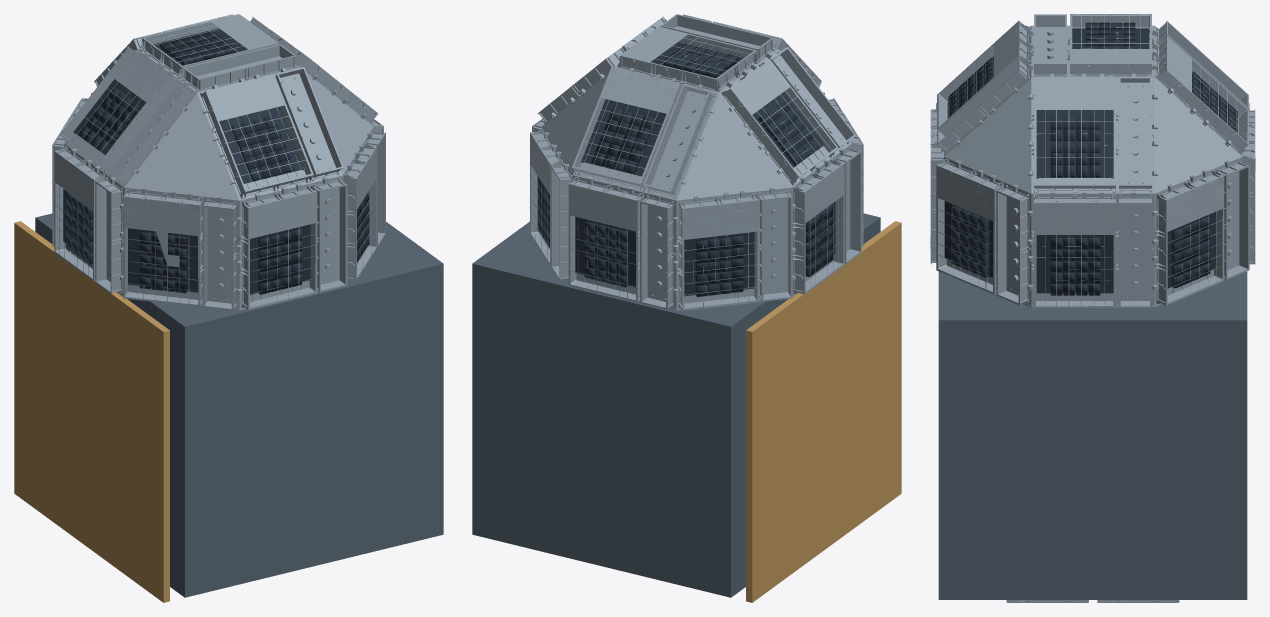
The model's file is daksha-assembly.glb.
3 views of the same model, side by side, from view 1: azimuth 30°, elevation 25°; view 2: azimuth 150°, elevation 25°; view 3: azimuth 270°, elevation 25° (orthographic). The views are drawn at different scales.
Visible parts, largest first — view 1: Spacecraft bus, Detector housings, Sensors, Crown, Detector electronics, Upper frame; view 2: Spacecraft bus, Detector housings, Sensors, Crown, Detector electronics, Upper frame; view 3: Spacecraft bus, Detector housings, Sensors, Crown, Detector electronics, Upper frame.
Part boxes in pixels (bbox=[...]): Spacecraft bus: bbox=[14, 14, 443, 602]; Detector housings: bbox=[55, 14, 383, 309]; Sensors: bbox=[65, 31, 369, 294]; Crown: bbox=[64, 49, 373, 200]; Detector electronics: bbox=[63, 28, 310, 294]; Upper frame: bbox=[64, 127, 373, 308]; Spacecraft bus: bbox=[472, 14, 901, 602]; Detector housings: bbox=[530, 16, 863, 309]; Sensors: bbox=[537, 43, 833, 296]; Crown: bbox=[542, 48, 851, 200]; Detector electronics: bbox=[575, 41, 835, 296]; Upper frame: bbox=[542, 127, 851, 308]; Spacecraft bus: bbox=[930, 14, 1255, 602]; Detector housings: bbox=[930, 14, 1255, 602]; Sensors: bbox=[948, 22, 1237, 295]; Crown: bbox=[941, 25, 1244, 194]; Detector electronics: bbox=[944, 28, 1215, 293]; Upper frame: bbox=[941, 149, 1244, 305].
Bounding box in the file's own units: 1.97 × 3.2 × 1.88.
